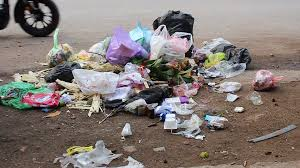garbage: (53, 30, 250, 120), (3, 72, 194, 111), (141, 9, 202, 128), (219, 65, 287, 98), (57, 144, 124, 168)
